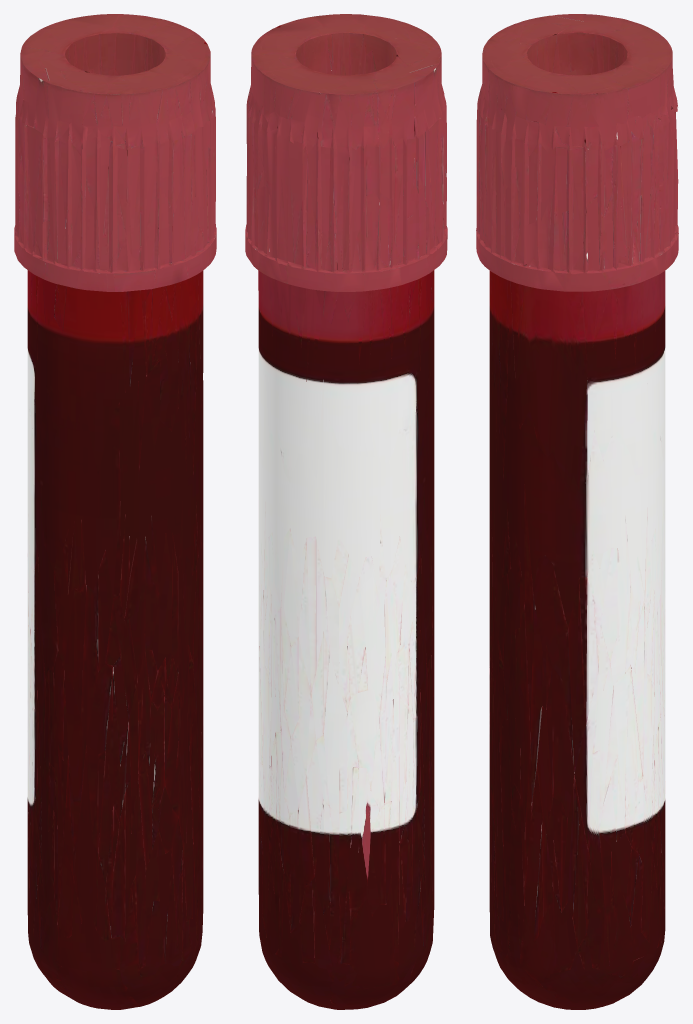
3 views of the same model, side by side, from view 1: azimuth 30°, elevation 25°; view 2: azimuth 150°, elevation 25°; view 3: azimuth 270°, elevation 25° (orthographic).
Visible parts, largest first — view 1: Mesh_0; view 2: Mesh_0; view 3: Mesh_0.
Part boxes in pixels (bbox=[...]): Mesh_0: bbox=[14, 14, 216, 1009]; Mesh_0: bbox=[245, 14, 447, 1009]; Mesh_0: bbox=[476, 14, 678, 1009].
Size of the model in its own units: 0.3689 by 1.9 by 0.3694.
1 material, 1 textured.
